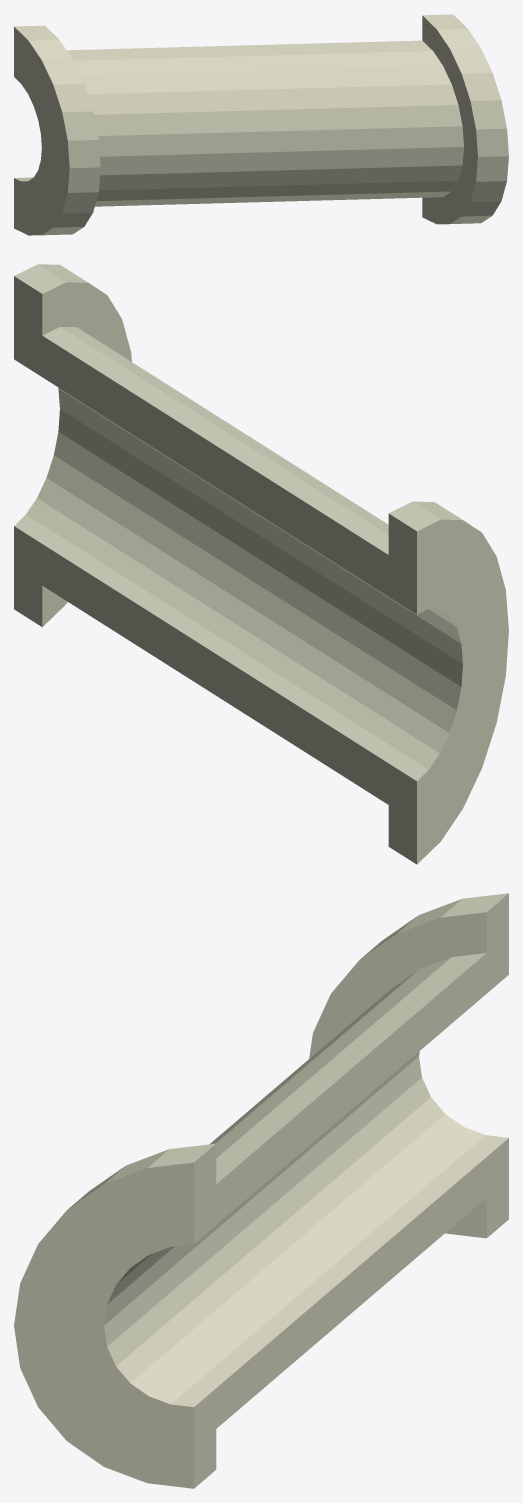
File: section_069.obj
3 renders of one model, top to bottom at view 1: azimuth 30°, elevation 25°; view 2: azimuth 150°, elevation 25°; view 3: azimuth 270°, elevation 25°, orthographic. The views are drawn at different scales.
Size of the model in its own units: 14.17 by 8 by 11.
